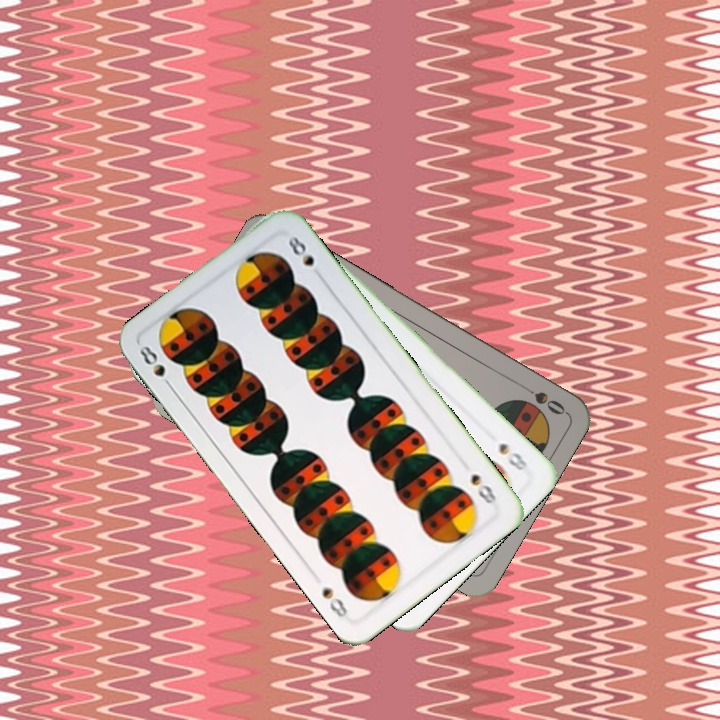S8: (135, 341, 177, 393), (495, 438, 533, 474), (466, 469, 499, 506)
SO: (515, 379, 568, 418)
